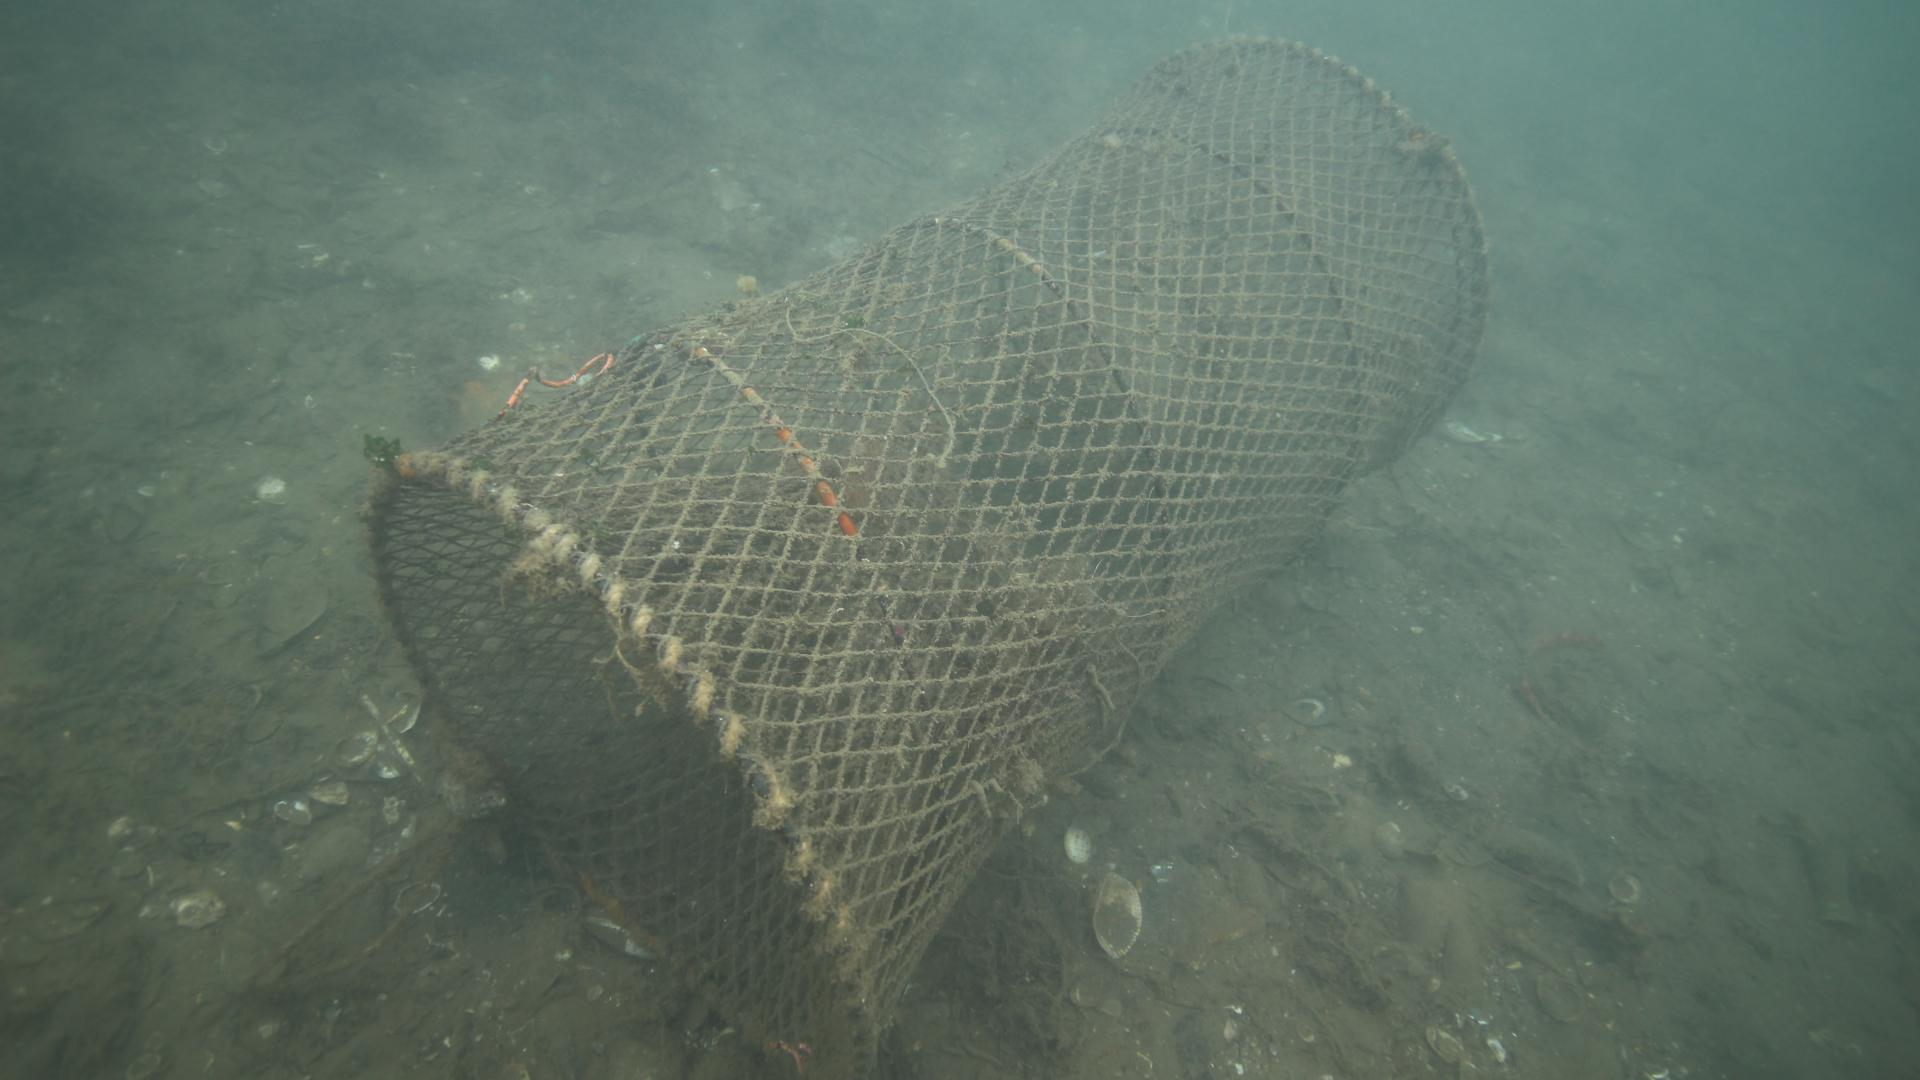spring fish trap: (368, 33, 1489, 1080)
